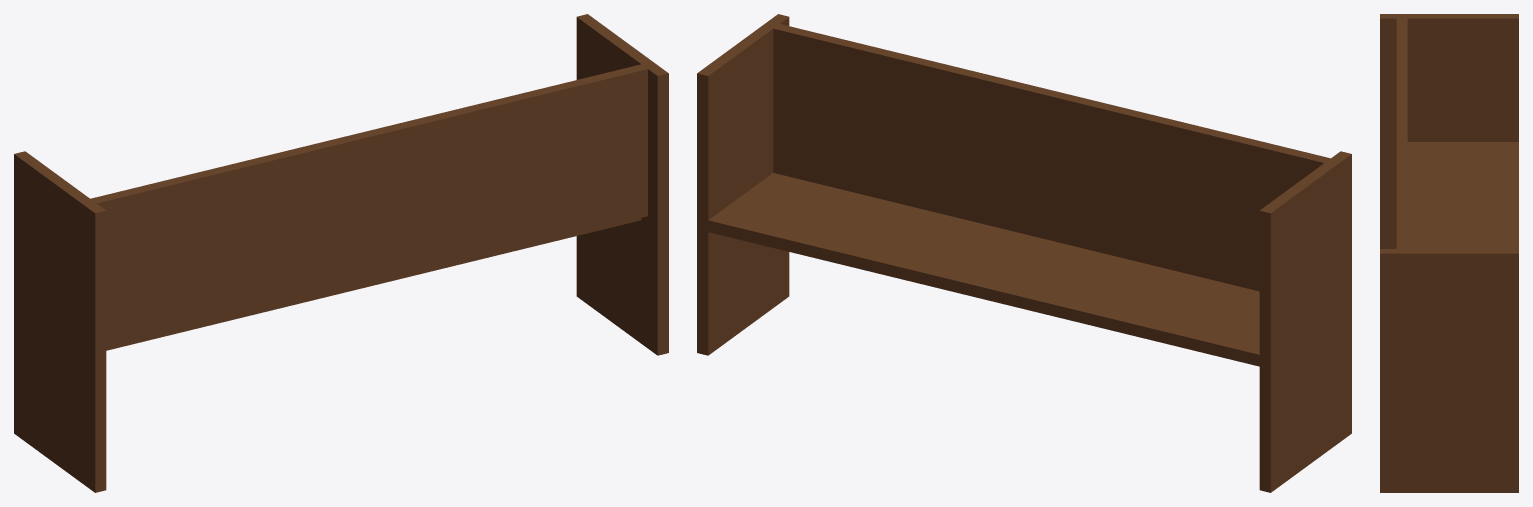
File: furniture.seat.pew.glb
3 views of the same model, side by side, from view 1: azimuth 30°, elevation 25°; view 2: azimuth 150°, elevation 25°; view 3: azimuth 270°, elevation 25° (orthographic). The views are drawn at different scales.
Visible parts, largest first — view 1: main__hardwood; view 2: main__hardwood; view 3: main__hardwood.
Part boxes in pixels (<box>): main__hardwood: <box>14,14,668,492</box>; main__hardwood: <box>697,14,1351,492</box>; main__hardwood: <box>1380,14,1518,492</box>.
Bounding box in the file's own units: 2.04 × 0.95 × 0.5.
